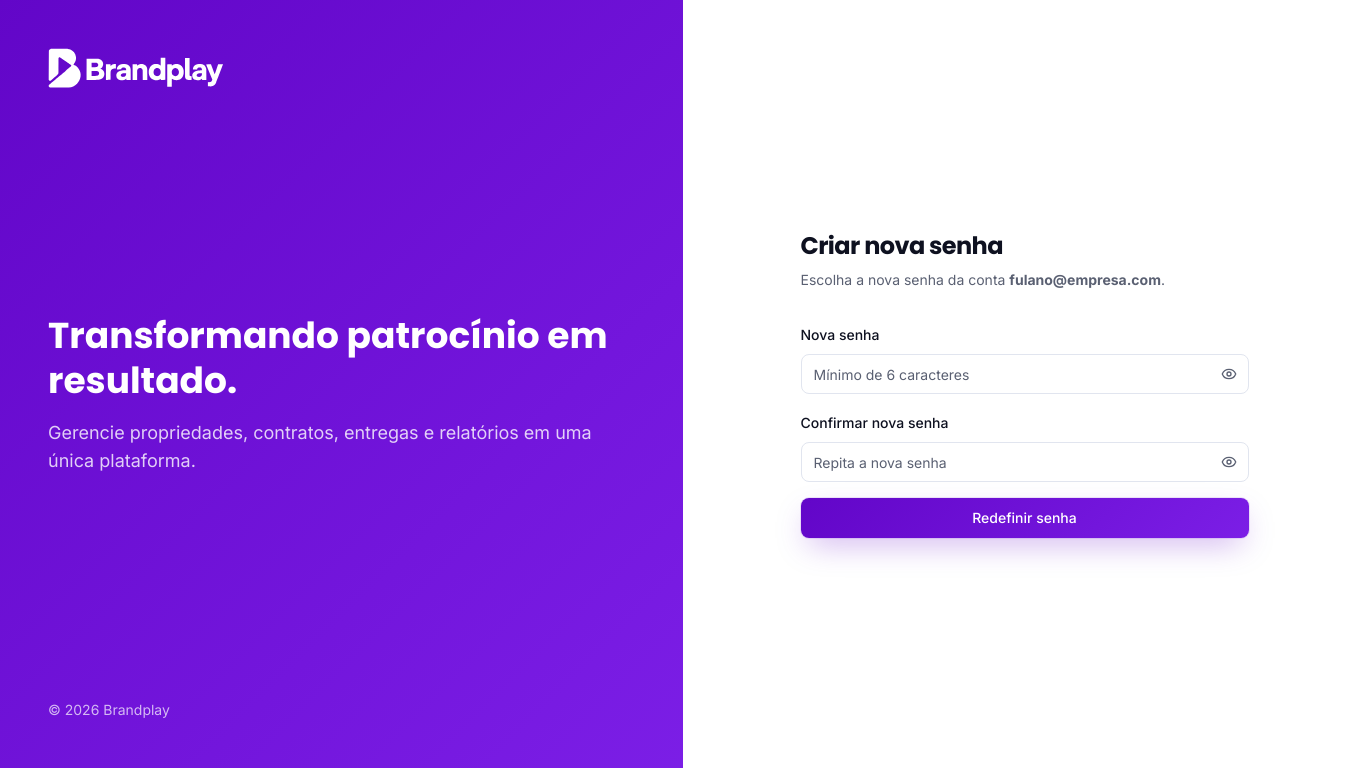
ResetarSenha › explica quando a nova senha é igual à atual
Type "mesma-senha" into the password field labelled "Nova senha" at {"x": 1024, "y": 374}, box [800, 354, 1248, 394]
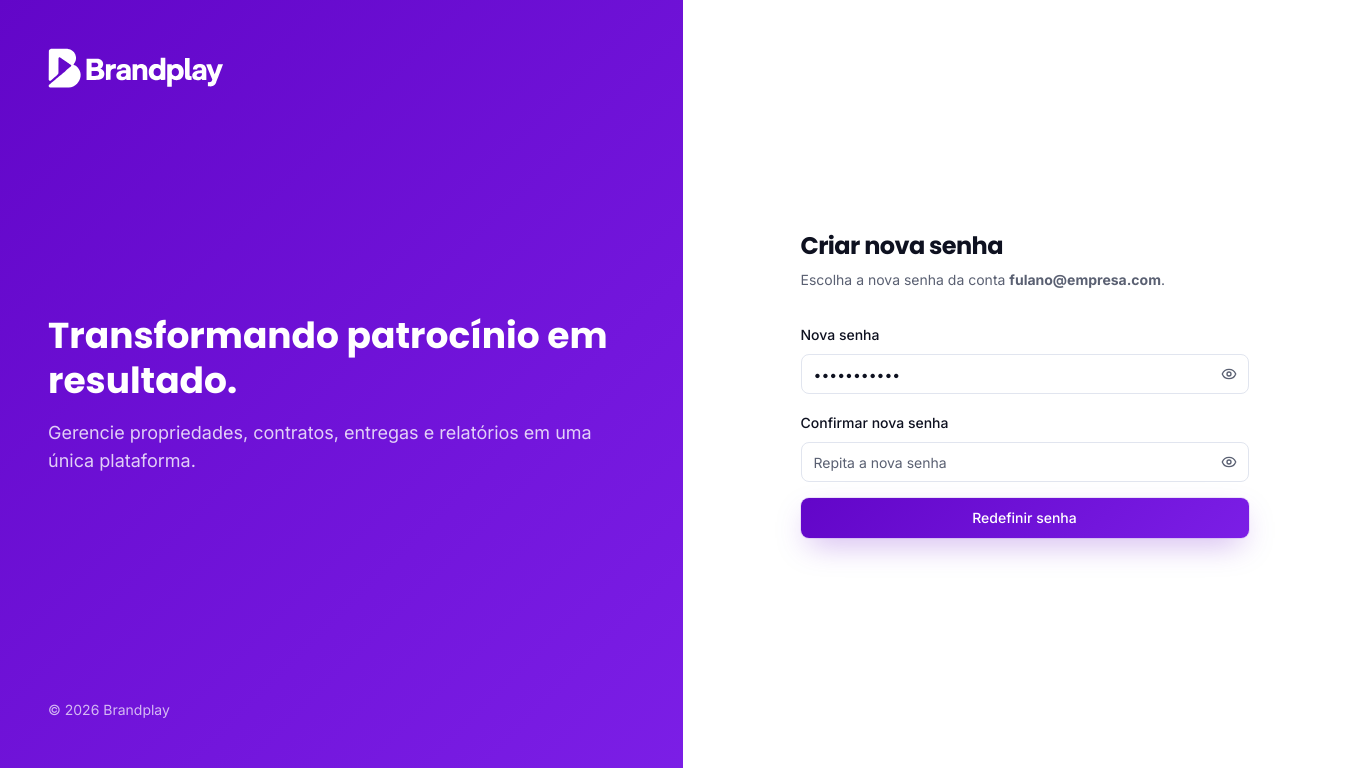
Type "mesma-senha" into the password field labelled "Confirmar nova senha" at {"x": 1024, "y": 462}, box [800, 442, 1248, 482]
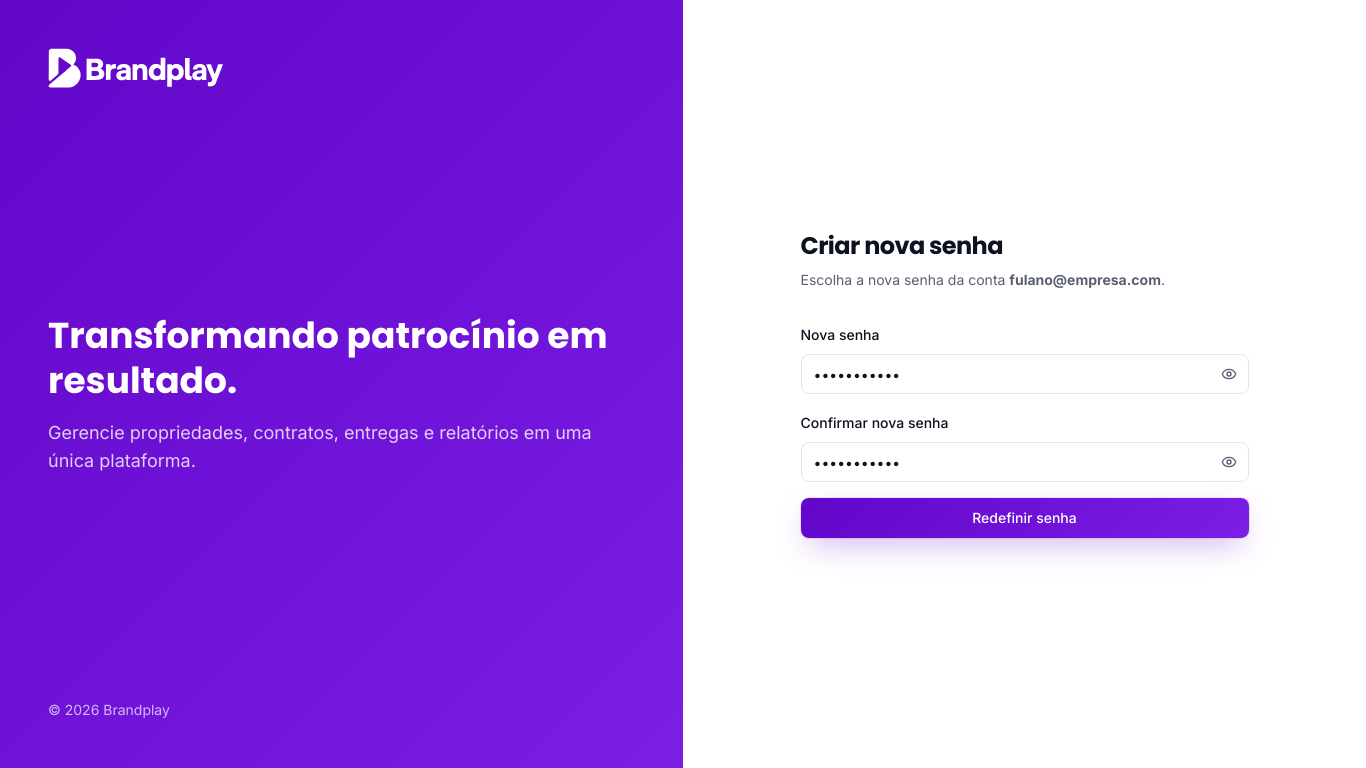
Click the button "Redefinir senha" at {"x": 1024, "y": 518}, box [800, 498, 1248, 538]
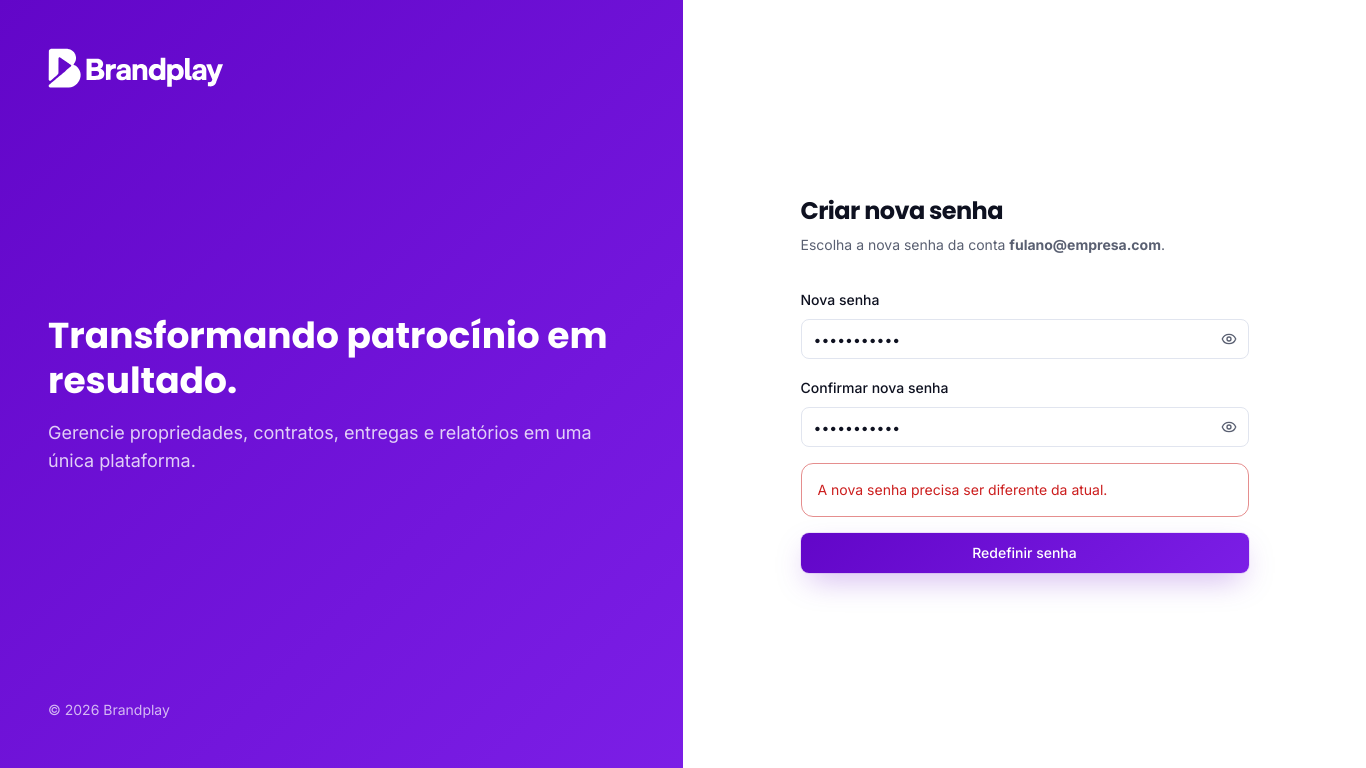
Expected: the text "A nova senha precisa ser diferente da atual." is shown, [818, 481, 1107, 498]
